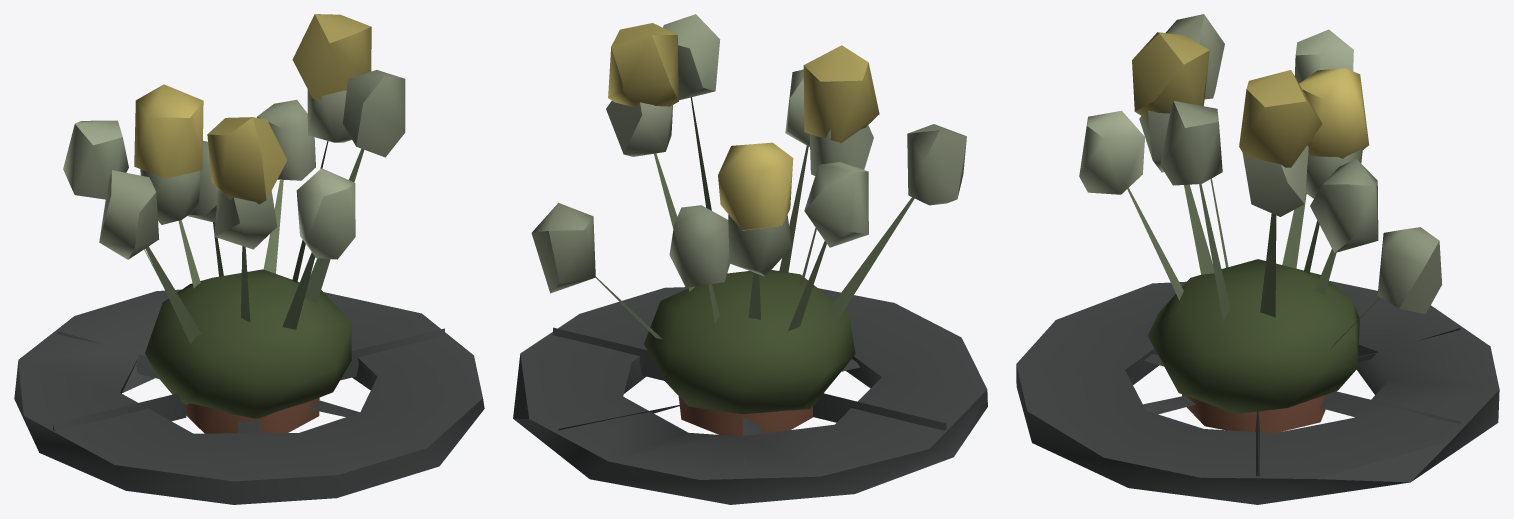
File: rabbitbrush_c_lod2.glb
3 views of the same model, side by side, from view 1: azimuth 30°, elevation 25°; view 2: azimuth 150°, elevation 25°; view 3: azimuth 270°, elevation 25° (orthographic). The views are drawn at different scales.
Visible parts, largest first — view 1: Surface.001; view 2: Surface.001; view 3: Surface.001.
Part boxes in pixels (box(x1,y1,x2,y2)): Surface.001: box(14, 14, 484, 504); Surface.001: box(513, 14, 987, 504); Surface.001: box(1016, 14, 1499, 504).
Size of the model in its own units: 1.91 by 1.62 by 1.87.
